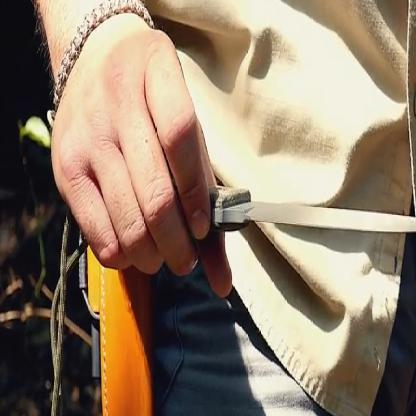knife: (82, 126, 415, 304)
